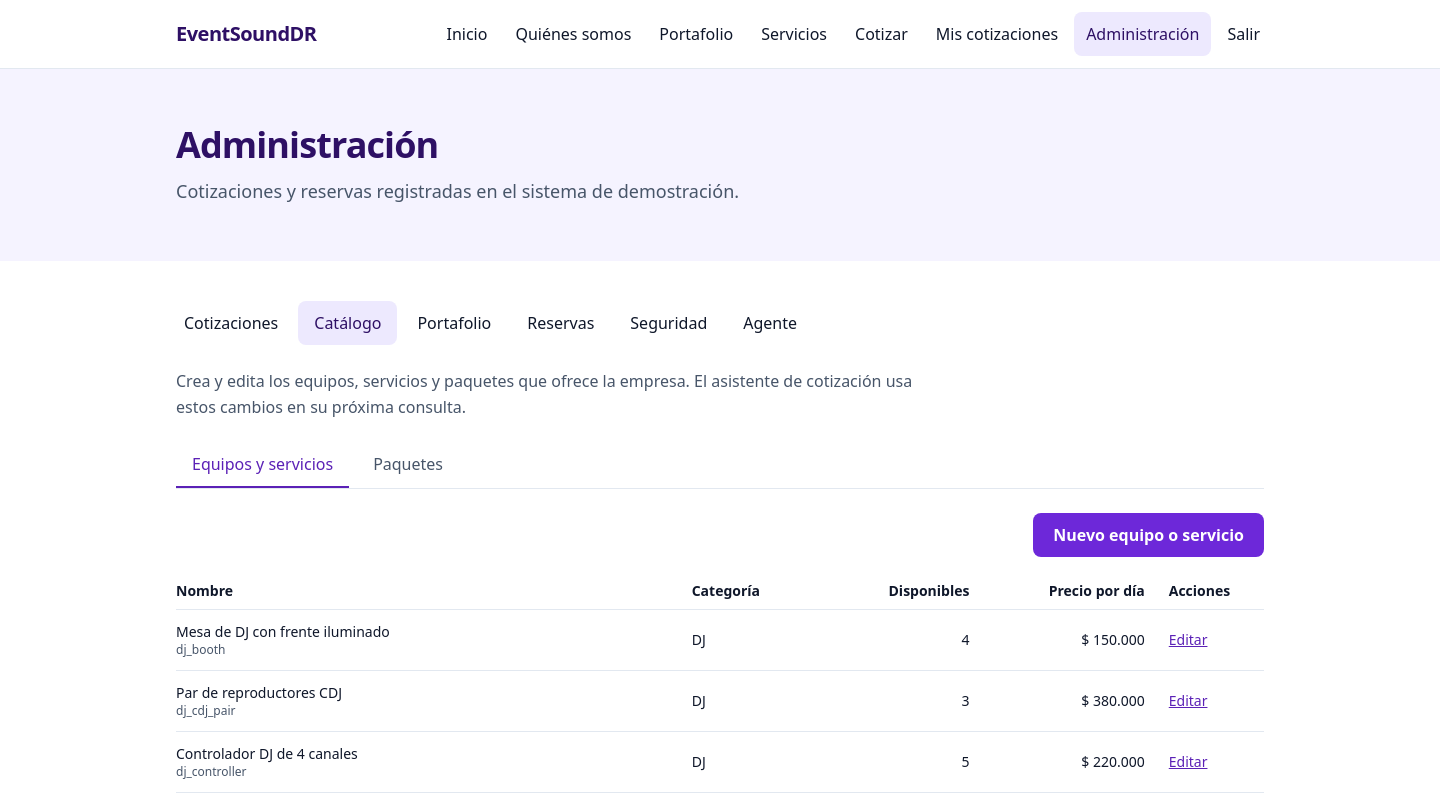
it: catalog admin: items › creates an item and lists it, telling the admin the assistant will use it
Click the button "Nuevo equipo o servicio" at (1149, 535), box 1033,513 -> 1264,557
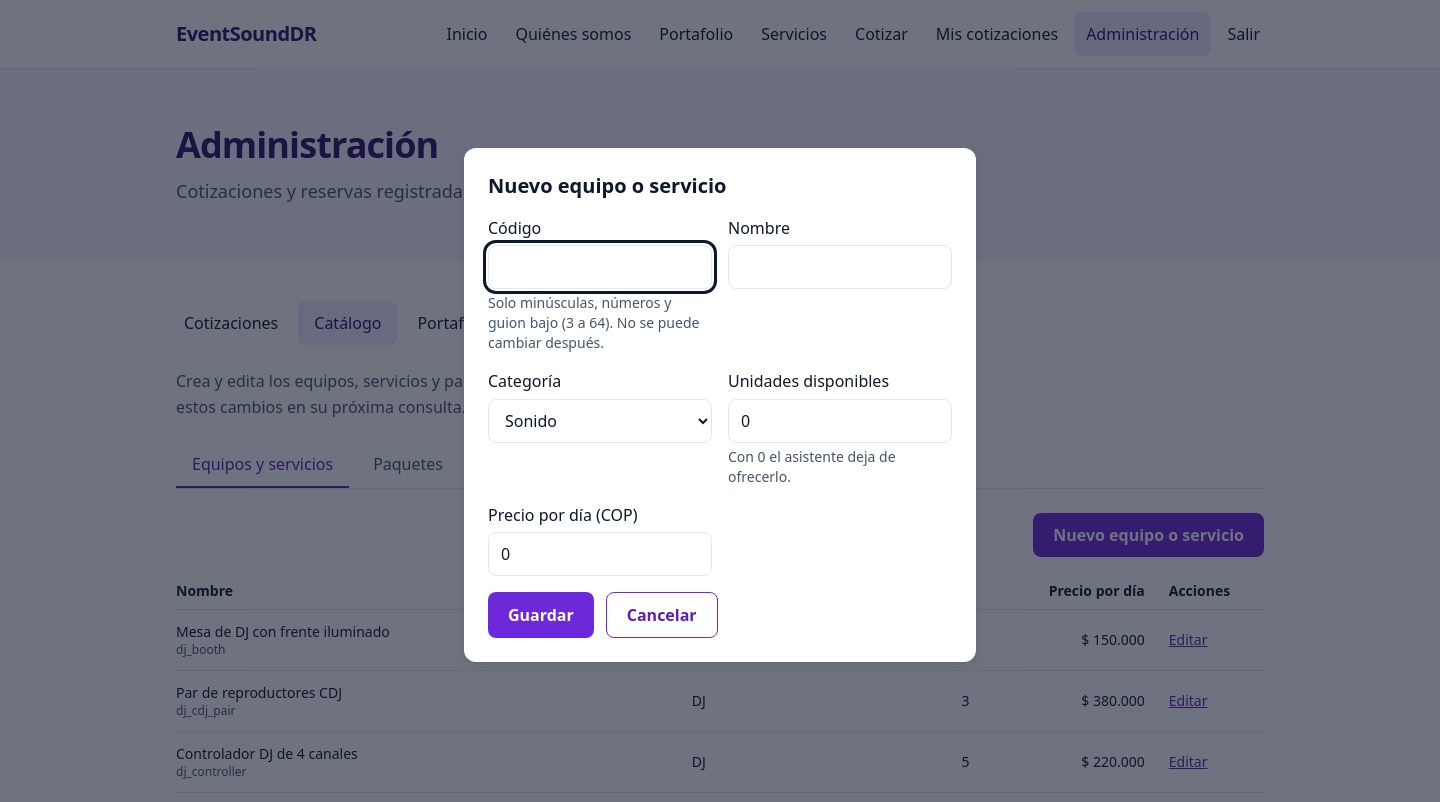
Type "sound_nuevo" into the field labelled "Código" at (600, 267), box 488,245 -> 712,289
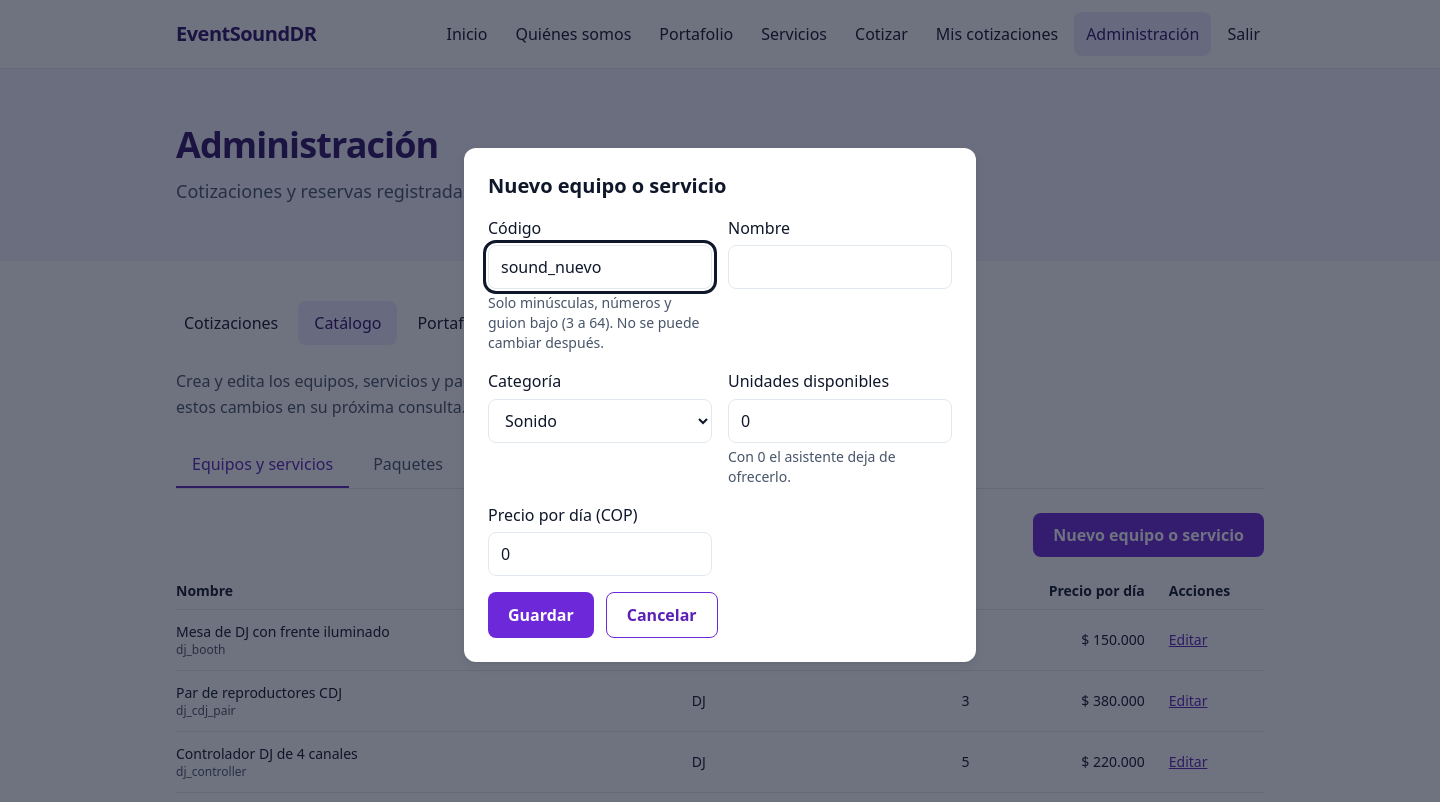
Type "Parlante nuevo de prueba" into the field labelled "Nombre" at (840, 267), box 728,245 -> 952,289
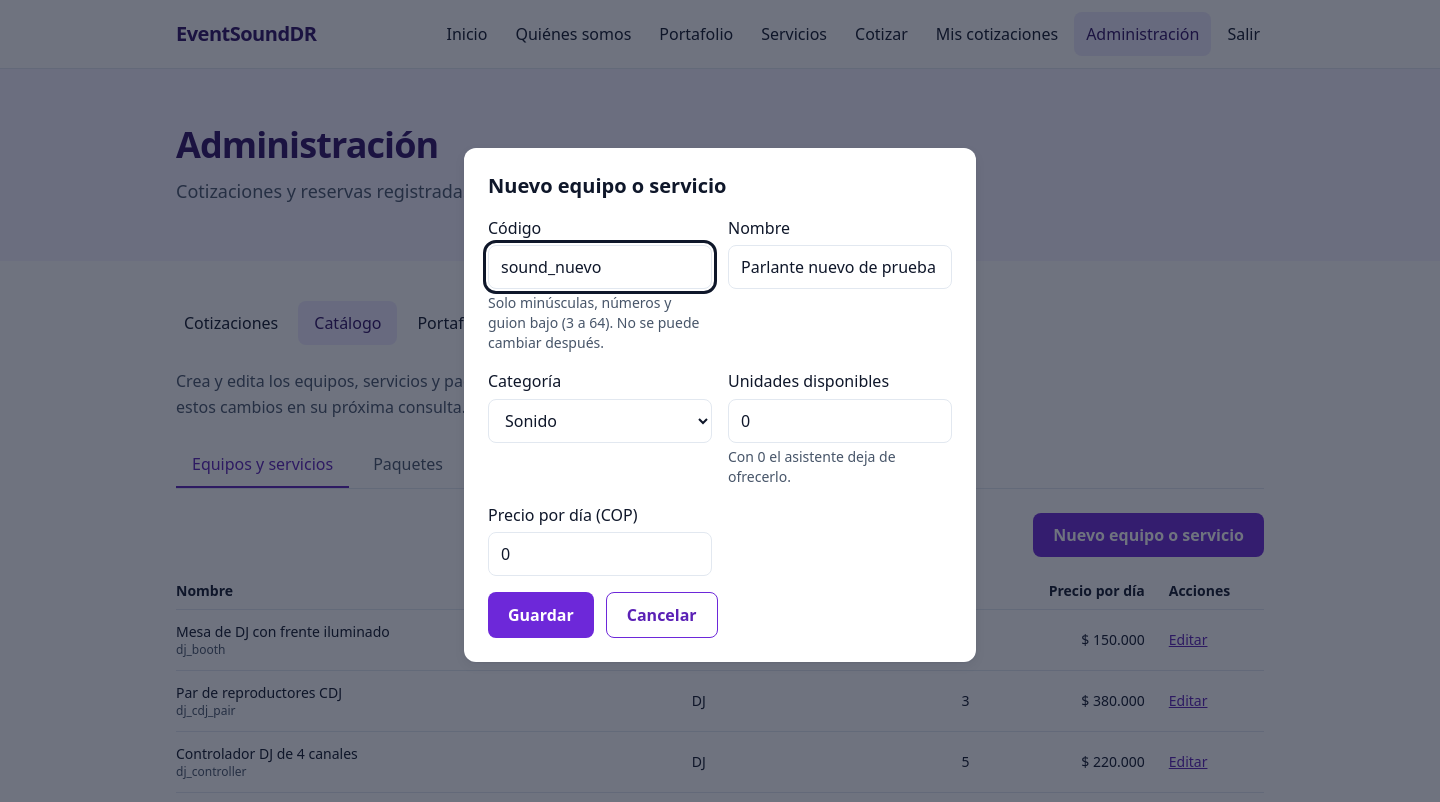
Replace the text in the field labelled "Unidades disponibles" with "6" at (840, 421), box 728,399 -> 952,443
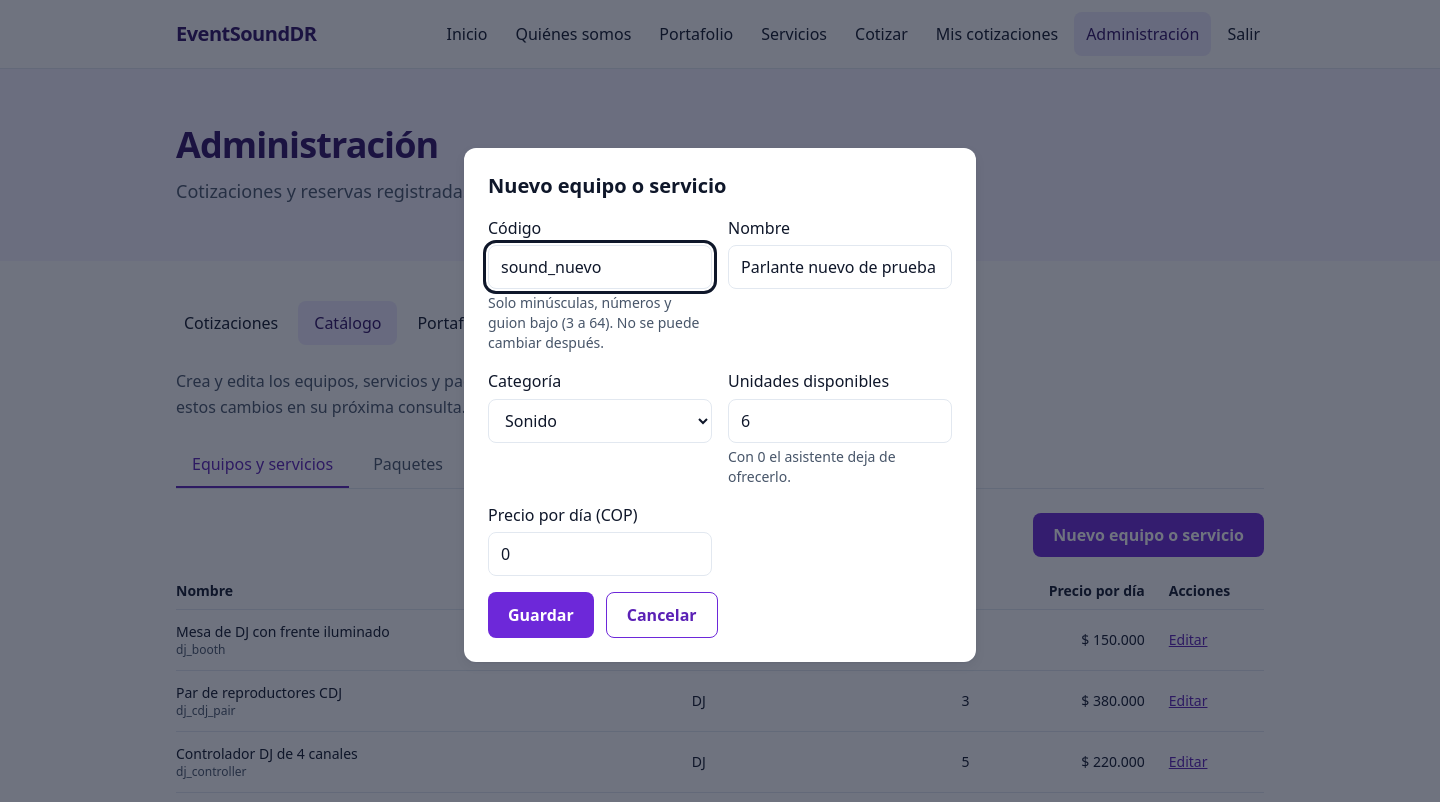
Replace the text in the field labelled "Precio por día (COP)" with "99000" at (600, 554), box 488,532 -> 712,576
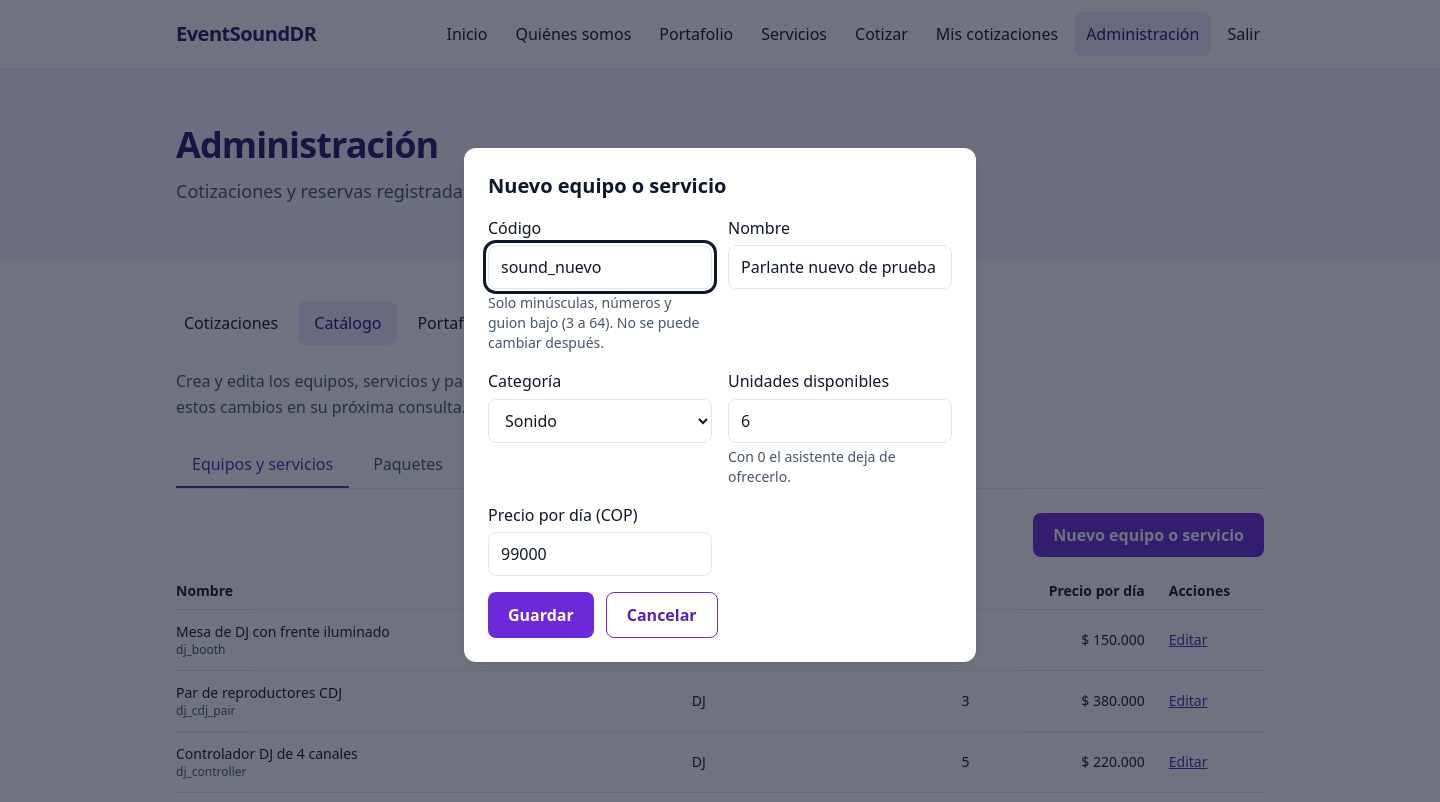
Click the button "Guardar" at (541, 615), box 488,592 -> 594,638
(page scrolled)
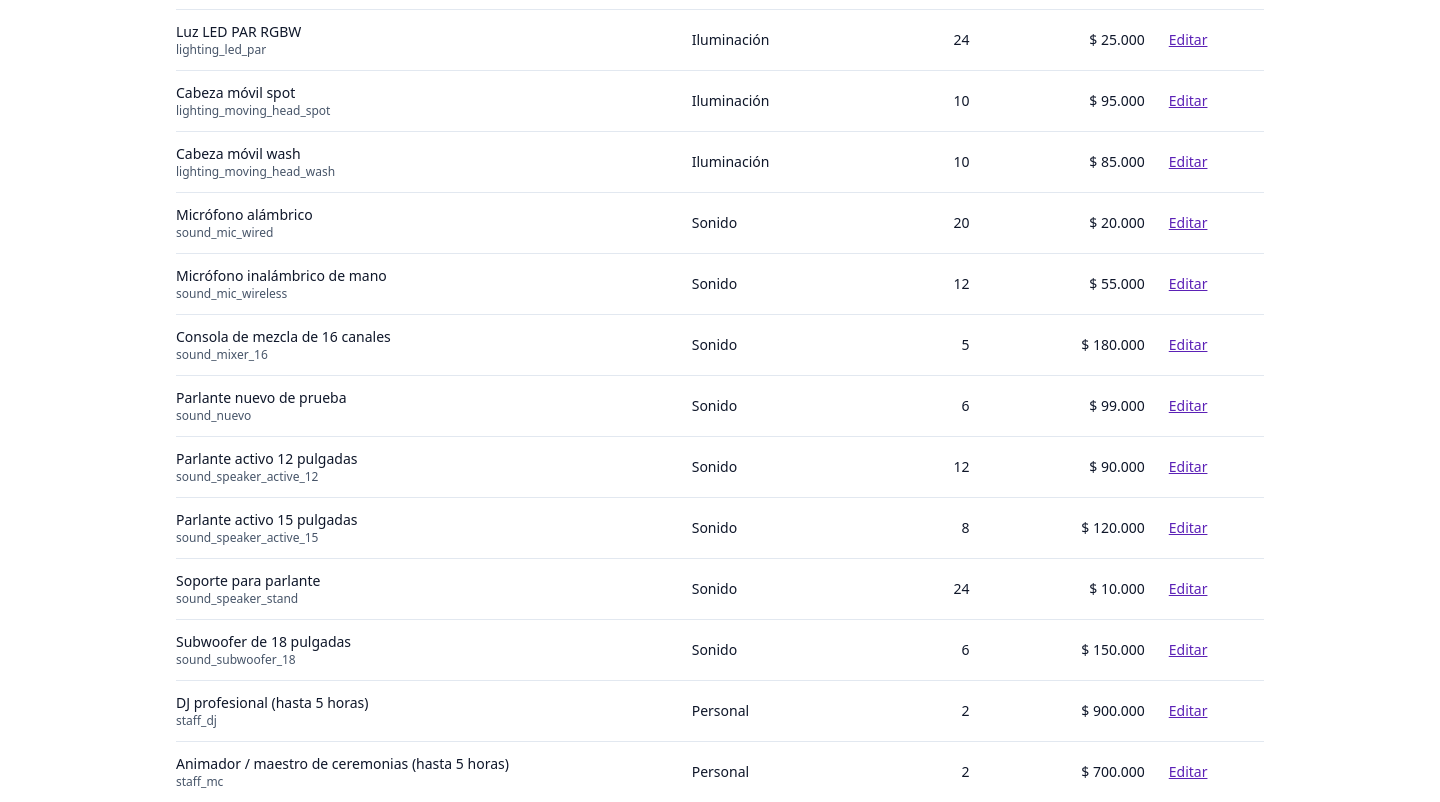
Expected: the column heading "Parlante nuevo de prueba" is shown, 176,388 -> 346,407
Expected: the dialog is gone
